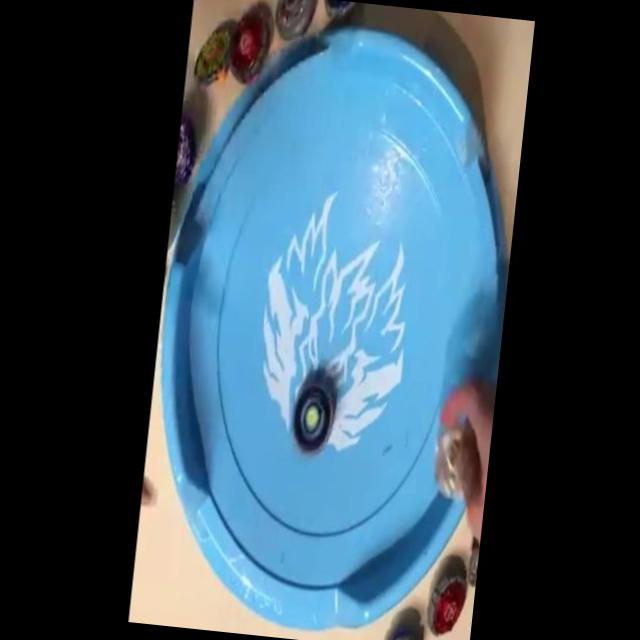Beyblade: (224, 6, 272, 86), (288, 379, 336, 456), (423, 568, 469, 638), (192, 23, 233, 88), (272, 0, 318, 43)
